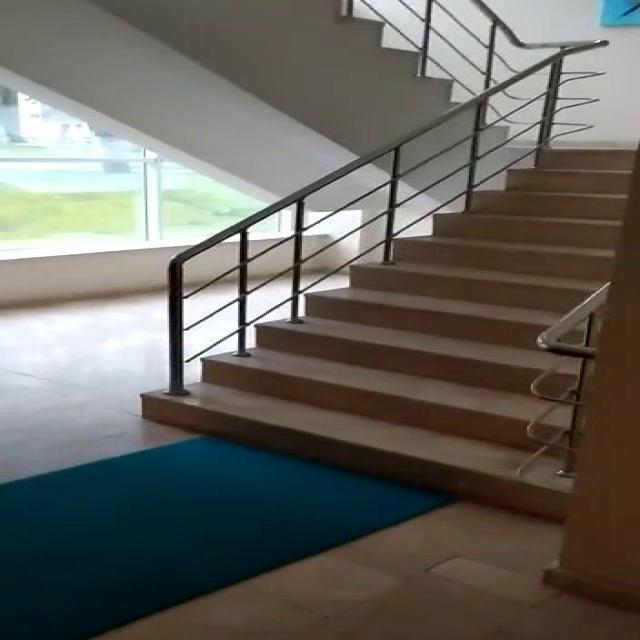stairs: (138, 143, 636, 520)
